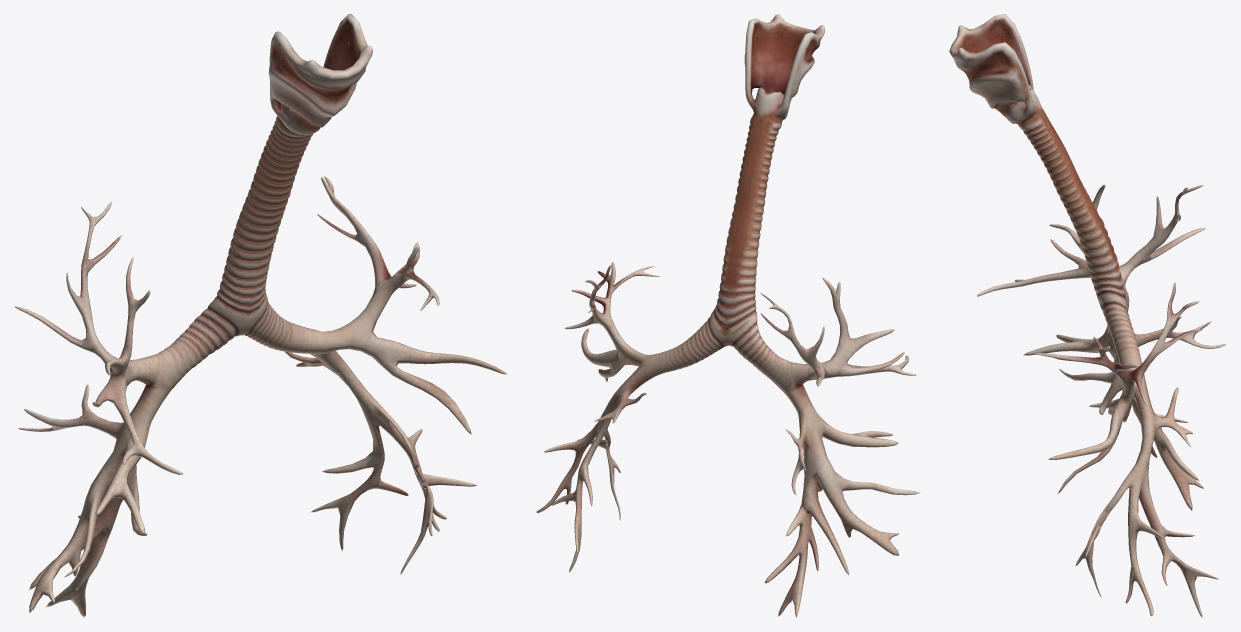
File: 喉部_气管_支气管.fbx
The picture shows the model from 3 angles, left to right: view 1: azimuth 30°, elevation 25°; view 2: azimuth 150°, elevation 25°; view 3: azimuth 270°, elevation 25°; orthographic projection. The views are drawn at different scales.
Parts seen in each view (by area): view 1: 男性_呼吸系统_喉部_气管_支气管; view 2: 男性_呼吸系统_喉部_气管_支气管; view 3: 男性_呼吸系统_喉部_气管_支气管.
Part boxes in pixels (box(x1,y1,x2,y2)): 男性_呼吸系统_喉部_气管_支气管: box(14, 14, 506, 617); 男性_呼吸系统_喉部_气管_支气管: box(536, 14, 919, 617); 男性_呼吸系统_喉部_气管_支气管: box(949, 14, 1225, 617).
Size of the model in its own units: 23.7 by 33.45 by 15.89.
